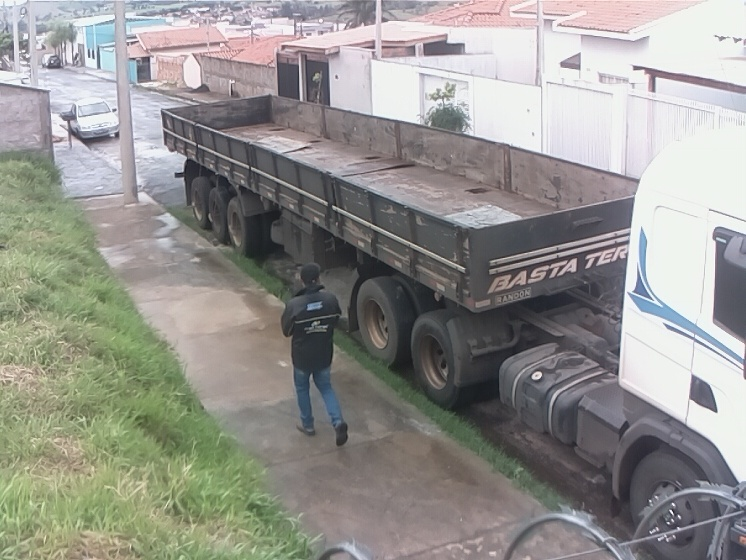person: (278, 261, 351, 450)
